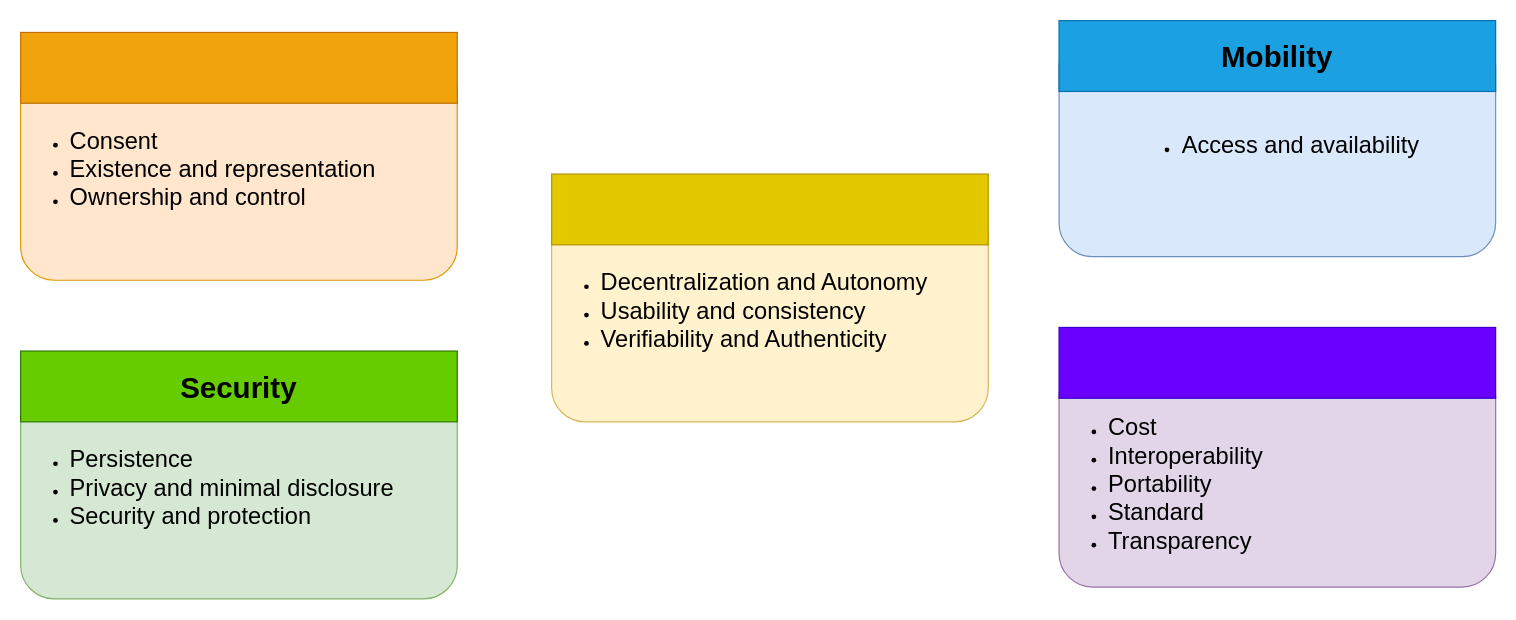
This 1516x620 diagram has some shape labels left out. Here are the shapes that lost their labels. From the top down, the centre of each, then its label:
At point 238,67: "Controllability".
At point 769,209: "Usability and agency".
At point 1277,362: "Sustainability and adoption".
